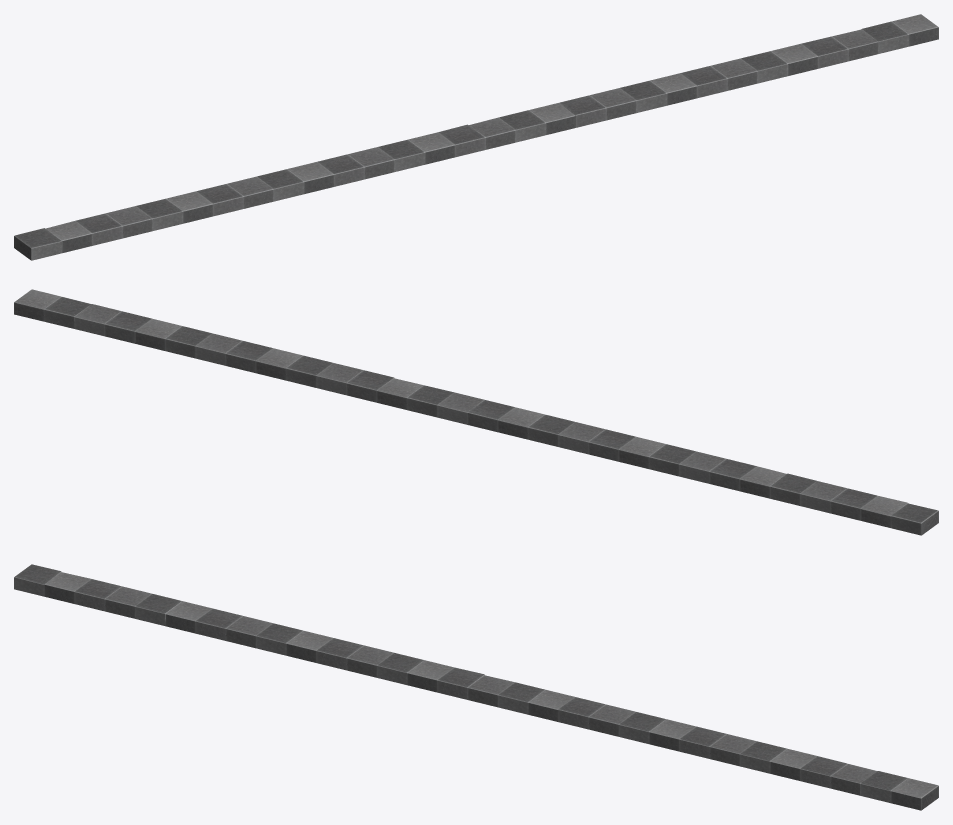
Rendered from W_M_Playground_Block1X15_L0.fbx.
The picture shows the model from 3 angles, top to bottom: view 1: azimuth 30°, elevation 25°; view 2: azimuth 150°, elevation 25°; view 3: azimuth 330°, elevation 25°; orthographic projection.
Parts seen in each view (by area): view 1: W_M_Playground_Block1X15_L0; view 2: W_M_Playground_Block1X15_L0; view 3: W_M_Playground_Block1X15_L0.
Part boxes in pixels (<box>): W_M_Playground_Block1X15_L0: <box>14,14,938,260</box>; W_M_Playground_Block1X15_L0: <box>14,289,938,535</box>; W_M_Playground_Block1X15_L0: <box>14,564,938,810</box>.
Size of the model in its own units: 15 by 0.2052 by 0.511.
